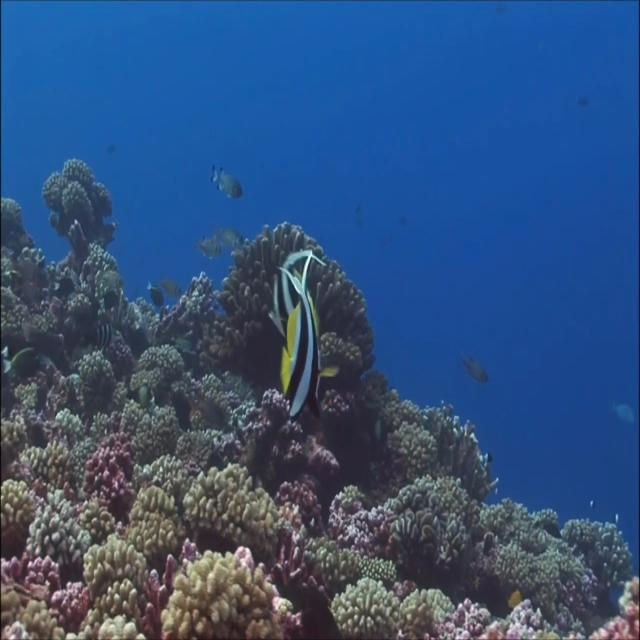Bannerfish: (282, 252, 319, 418), (265, 249, 322, 327)
